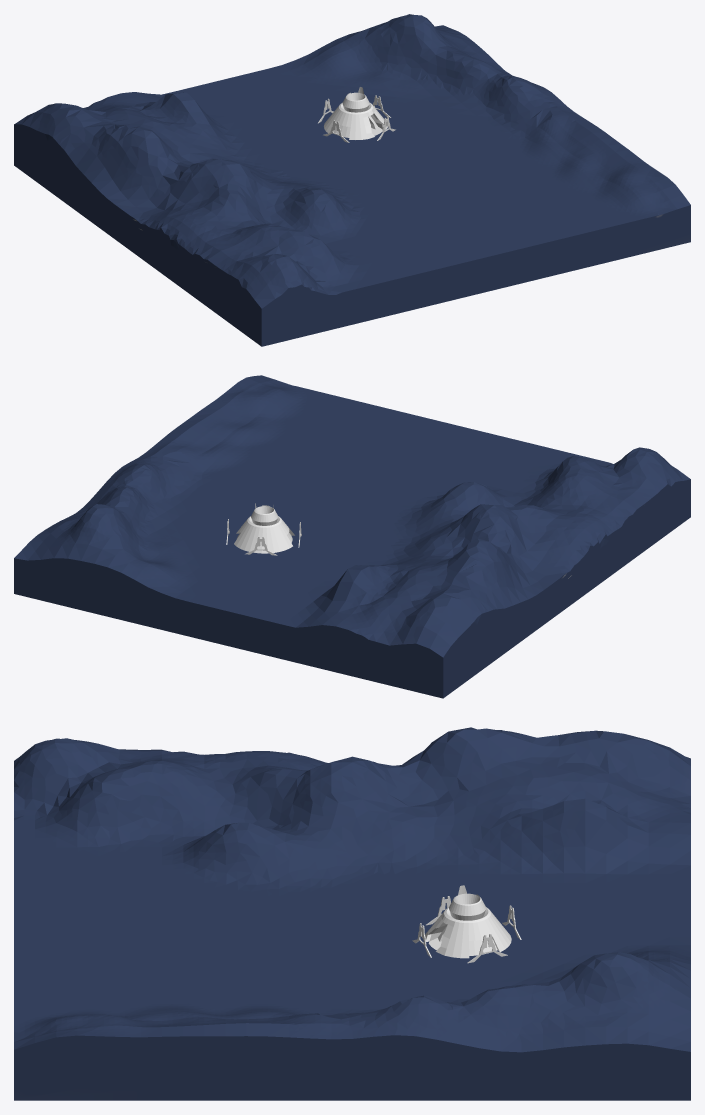
Rendered from hadleys.gltf.
The picture shows the model from 3 angles, top to bottom: view 1: azimuth 30°, elevation 25°; view 2: azimuth 150°, elevation 25°; view 3: azimuth 270°, elevation 25°; orthographic projection. The views are drawn at different scales.
Parts seen in each view (by area): view 1: terrain.01, building.01; view 2: terrain.01, building.01; view 3: terrain.01, building.01.
Boxes of the visible parts, x1,y1,x2,y2 form: terrain.01: (14, 14, 690, 346); building.01: (318, 87, 395, 142); terrain.01: (14, 375, 690, 698); building.01: (226, 503, 301, 555); terrain.01: (14, 727, 690, 1100); building.01: (412, 885, 521, 963).
Size of the model in its own units: 9.34 by 1.77 by 9.34.
